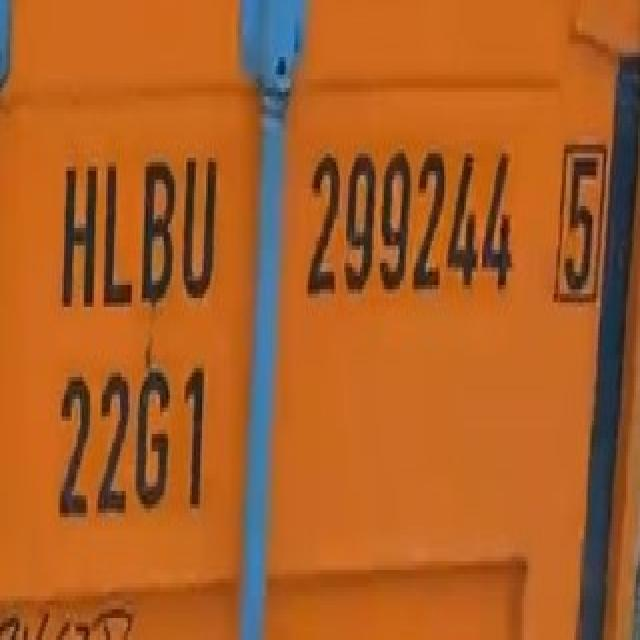dv: (544, 132, 609, 310)
owner: (50, 128, 221, 318)
serial: (303, 129, 526, 324)
size: (49, 361, 219, 532)
